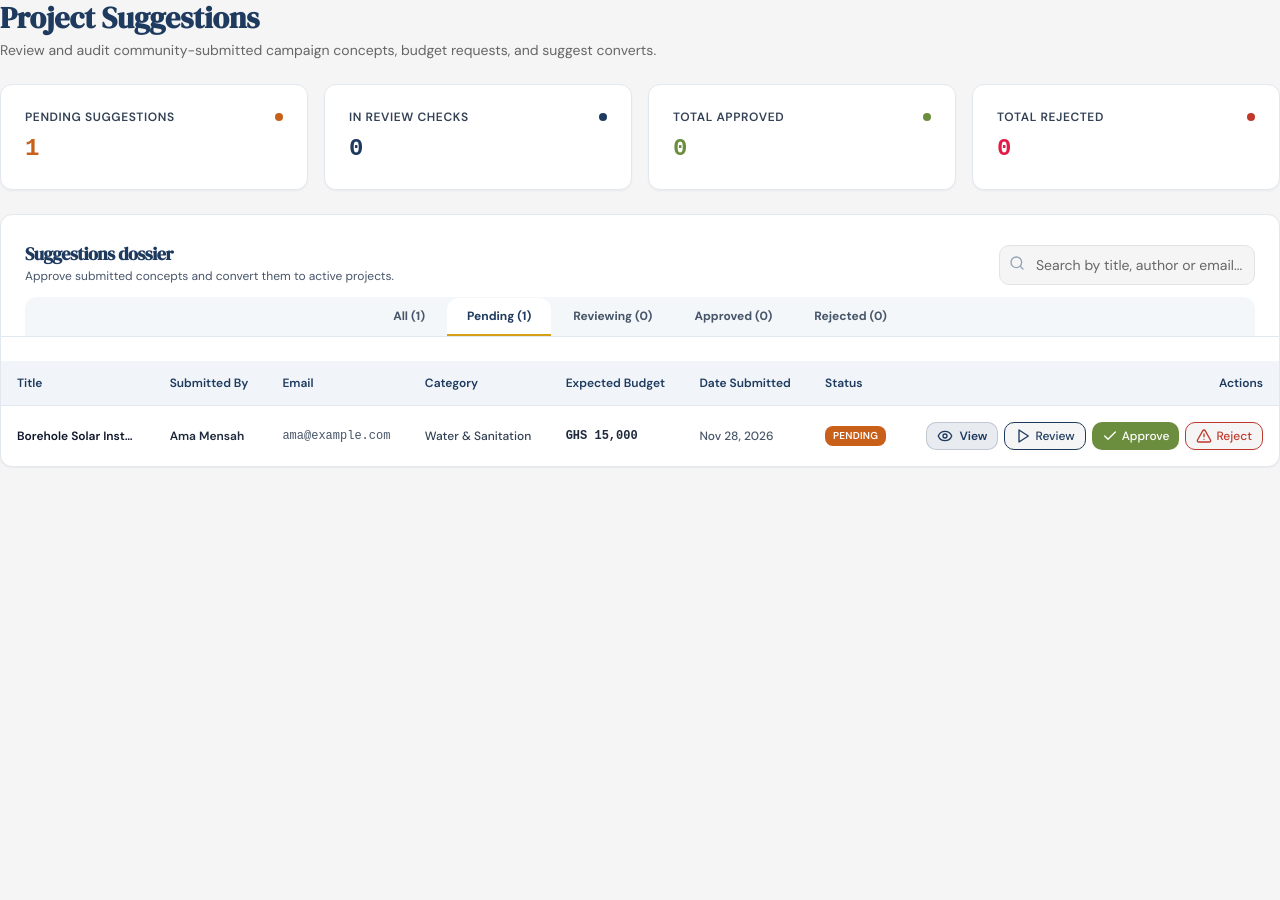
Test case: UI/UX Refinements Test Suite › Task 1: Camouflaged 'View' Button in Project Suggestions › renders the View button with visible background tint, navy text, border, and focus states
Expected: the text "Borehole Solar Installation" is shown, [1,405,154,466]
// Verify clicking View opens the detail modal
Step 1. Click the button "View" → coordinates (962, 436), box [926,422,998,450]
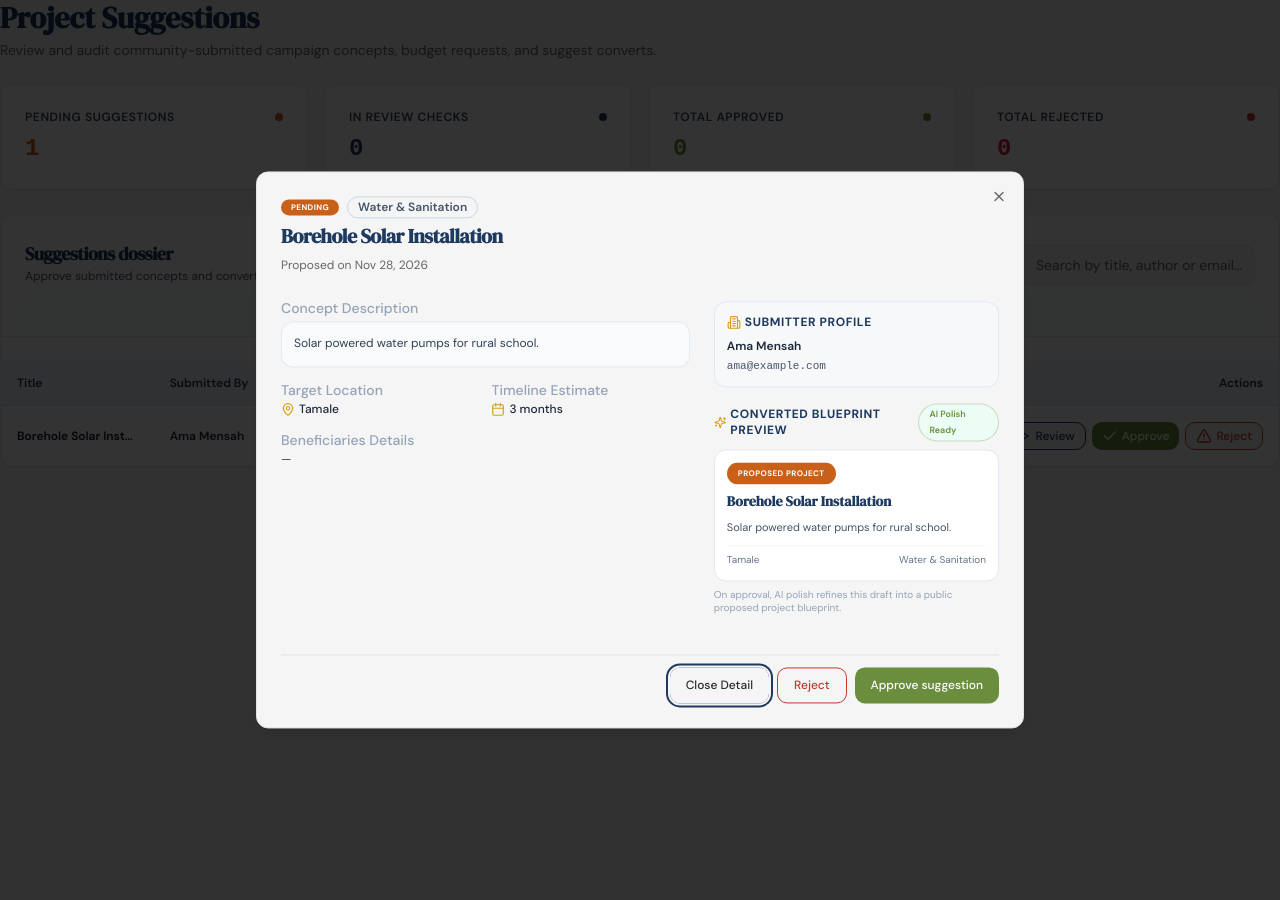
Result: the text "Concept Description" is shown at [281,299,418,317]
